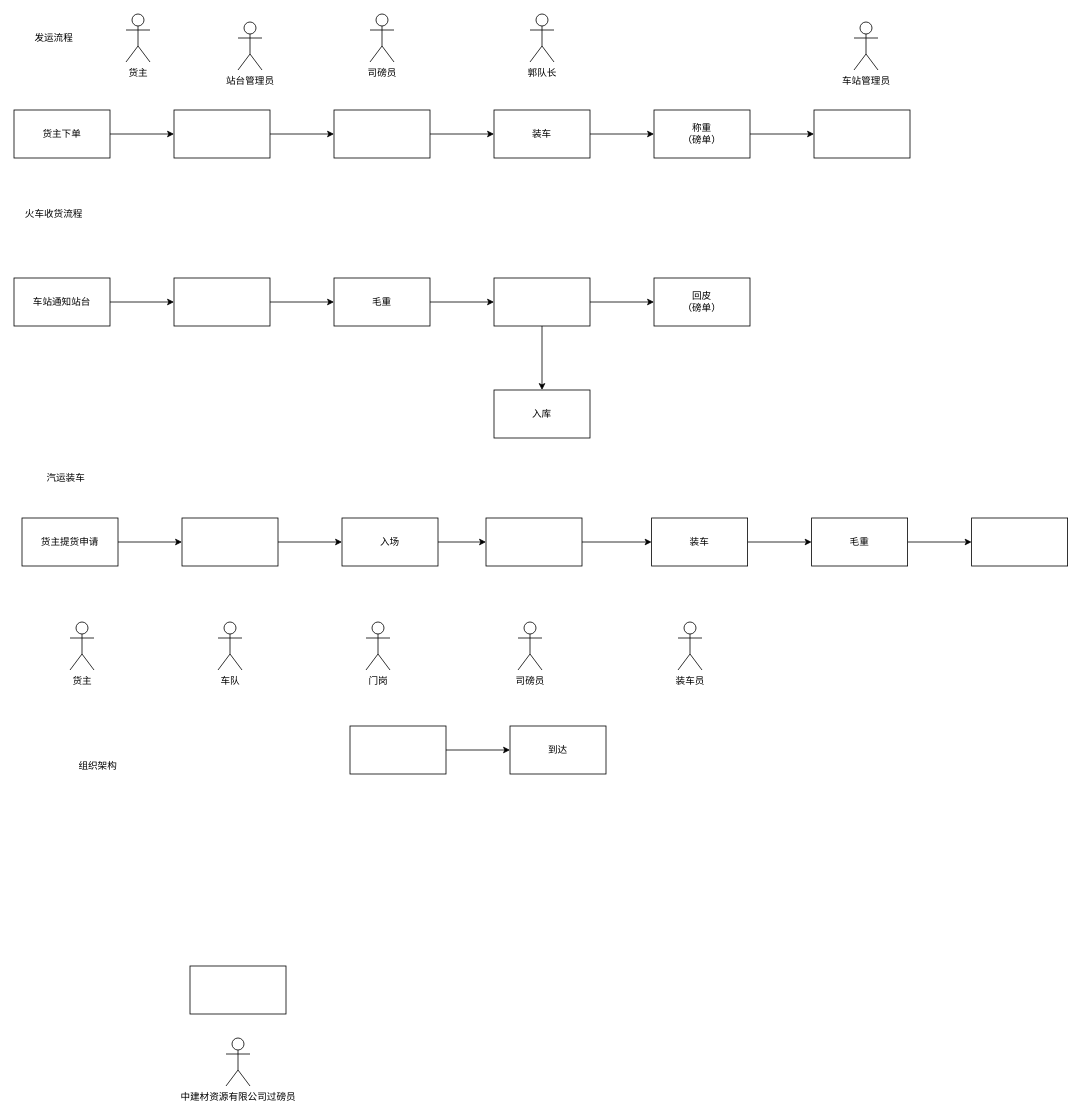
The diagram is 1082 pixels wide and 1117 high, and some of its shapes have lost their labels. The shapes that lost their labels are listed below. From the top down, each one's centre as x and y in pixels, then its label:
At (221,133): "站台叫车".
At (381,133): "过皮、抄车号".
At (861,133): "缴费".
At (221,301): "站台调度".
At (541,301): "卸车".
At (229,541): "派车".
At (533,541): "皮重".
At (1019,541): "出厂".
At (397,749): "火车到达".
At (237,989): "过磅 单据：过磅单".
